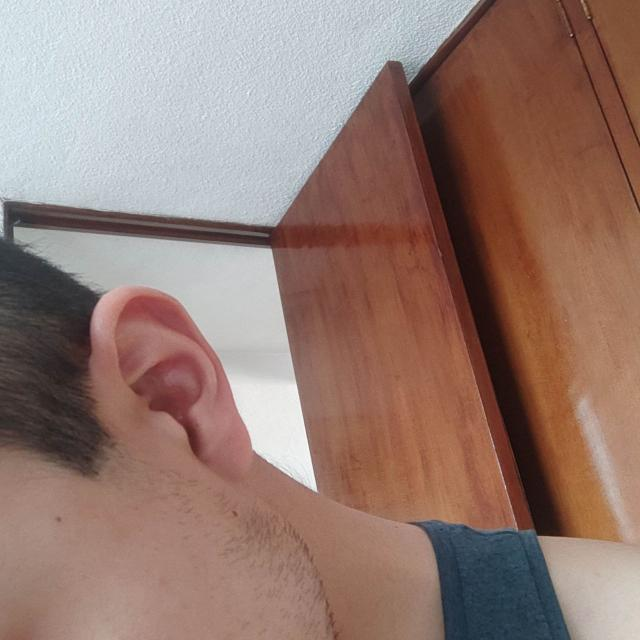ear: (91, 288, 255, 480)
